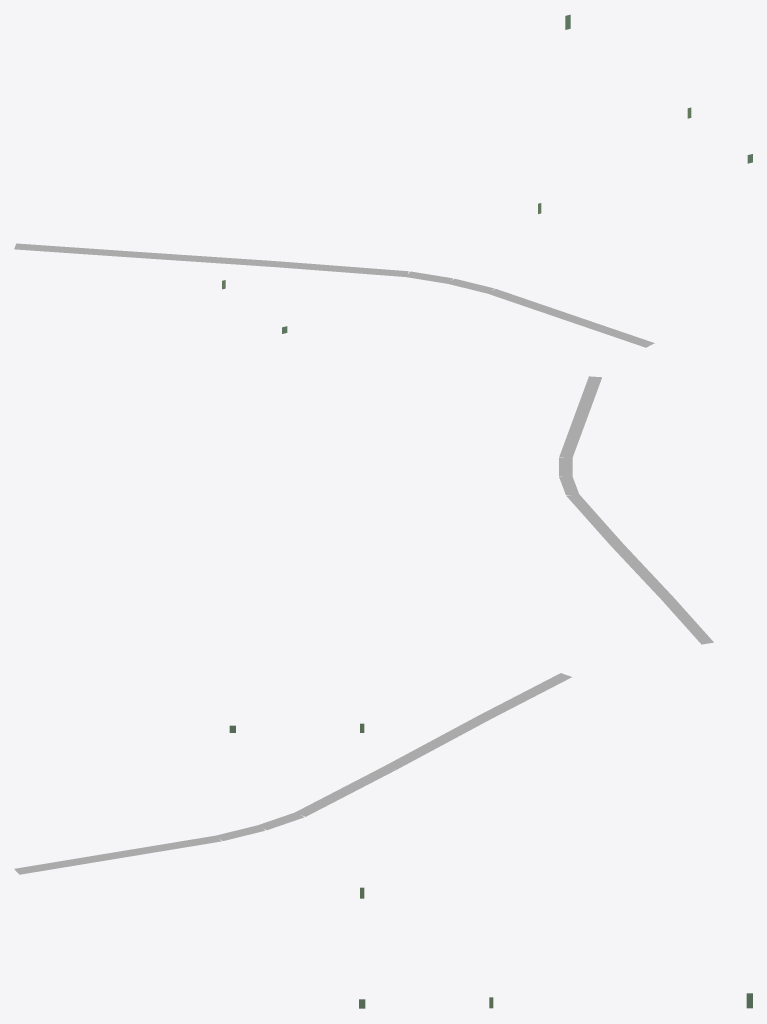
3 views of the same model, one above another, from view 1: azimuth 30°, elevation 25°; view 2: azimuth 150°, elevation 25°; view 3: azimuth 270°, elevation 25° (orthographic). The views are drawn at different scales.
Bounding box in the file's own units: 368 × 7.77 × 343.
